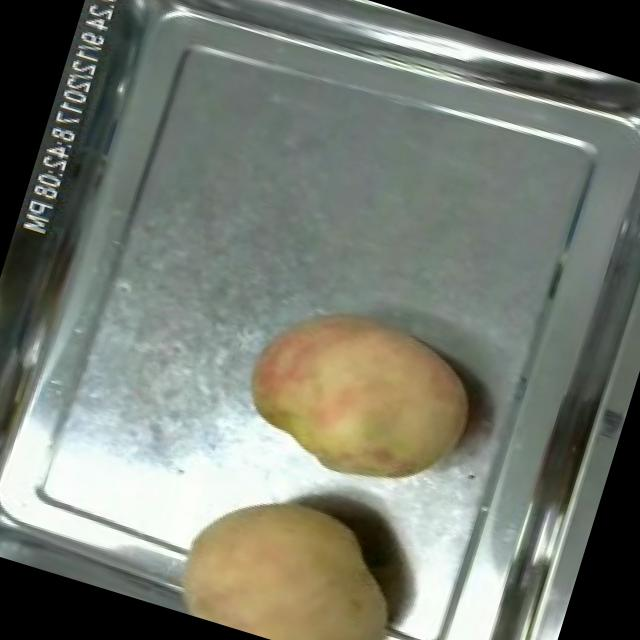Fruit: (226, 282, 494, 516), (155, 461, 426, 640)
